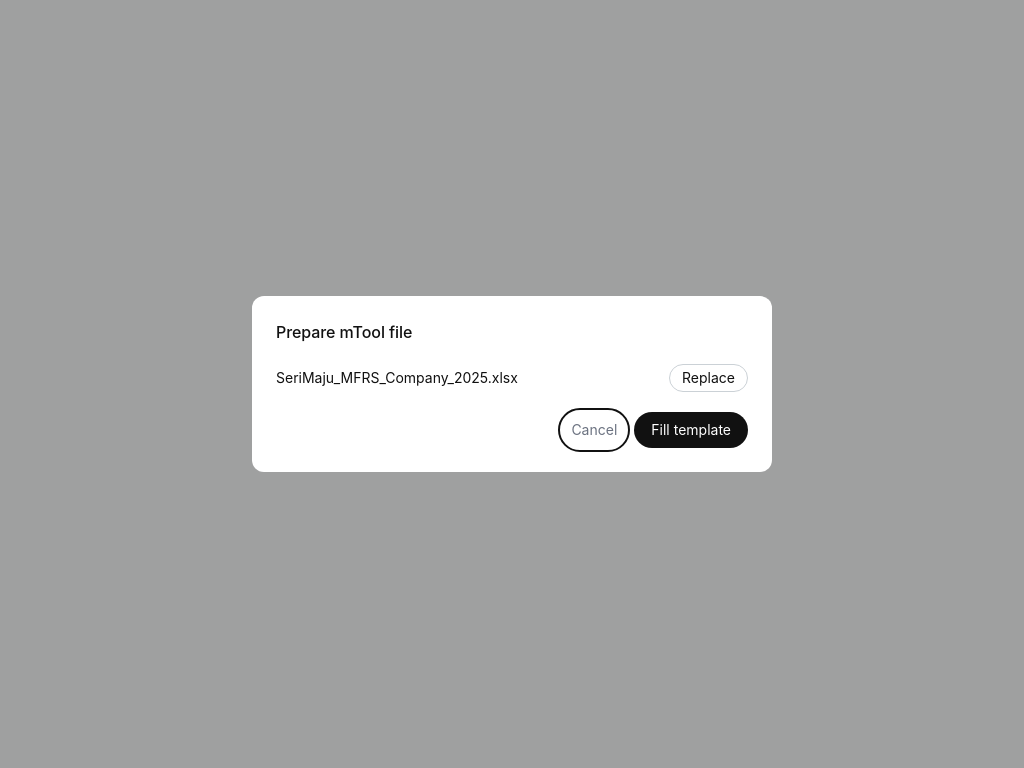
Test case: Prepare mTool file › shows only the counts when the receipt lists nothing, and downloads the file
Earlier steps of the test are not shown.
Later steps or results of the test are not shown.
What coordinates should you click on to do the following:
click the button "Fill template"
I would click on:
 (691, 430)
Its box is [634,412,748,448].
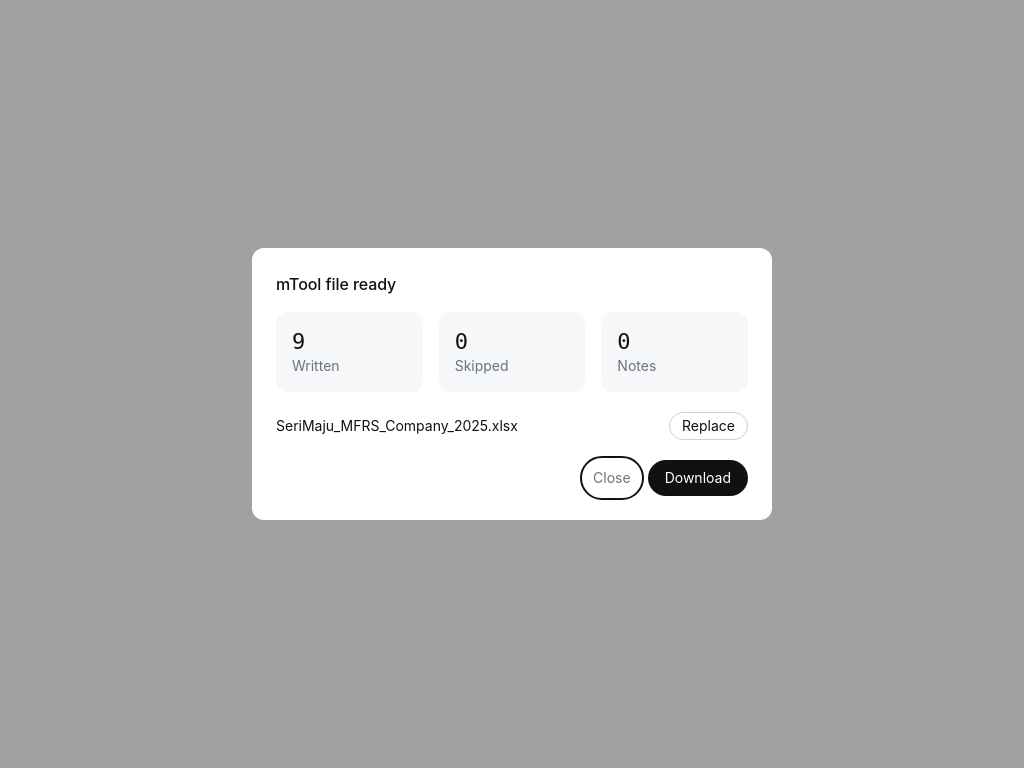
Check: the element with class "stats" is shown, box [276,312,748,392]
